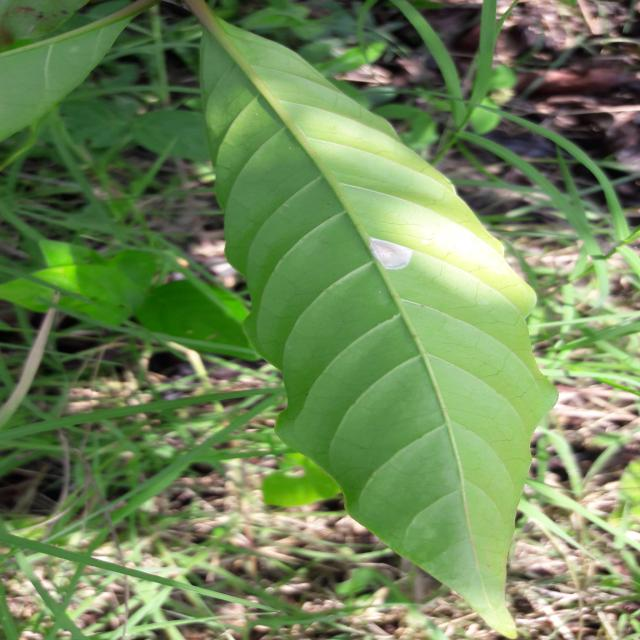Sanas: (176, 0, 557, 640)
